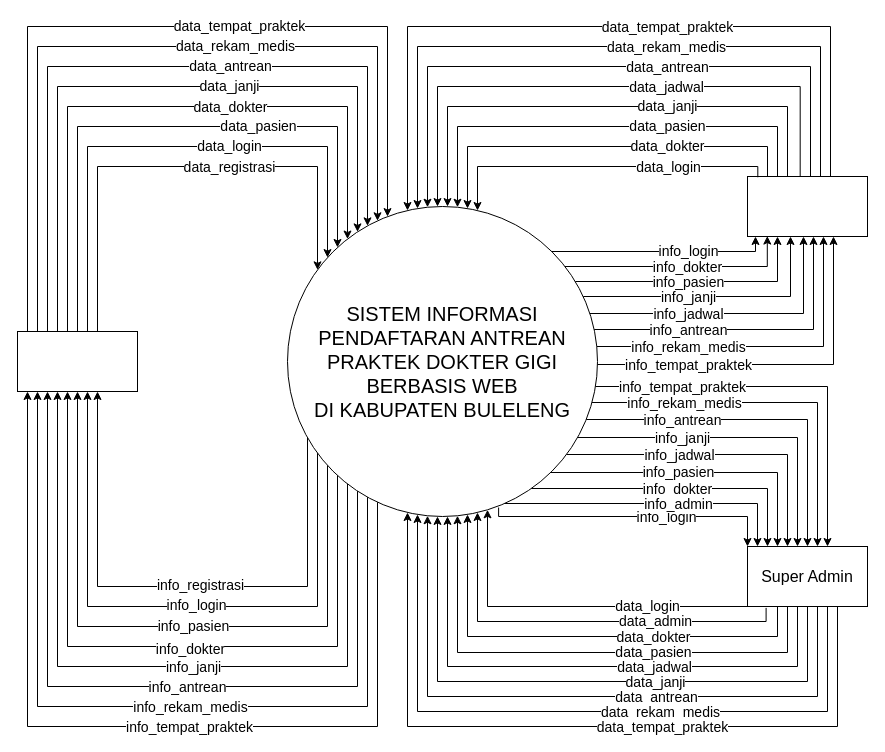
The diagram is 885 pixels wide and 752 high, and some of its shapes have lost their labels. Each missing label, with the centre of its shape:
Dokter: [807,206]
Pasien: [77,361]
